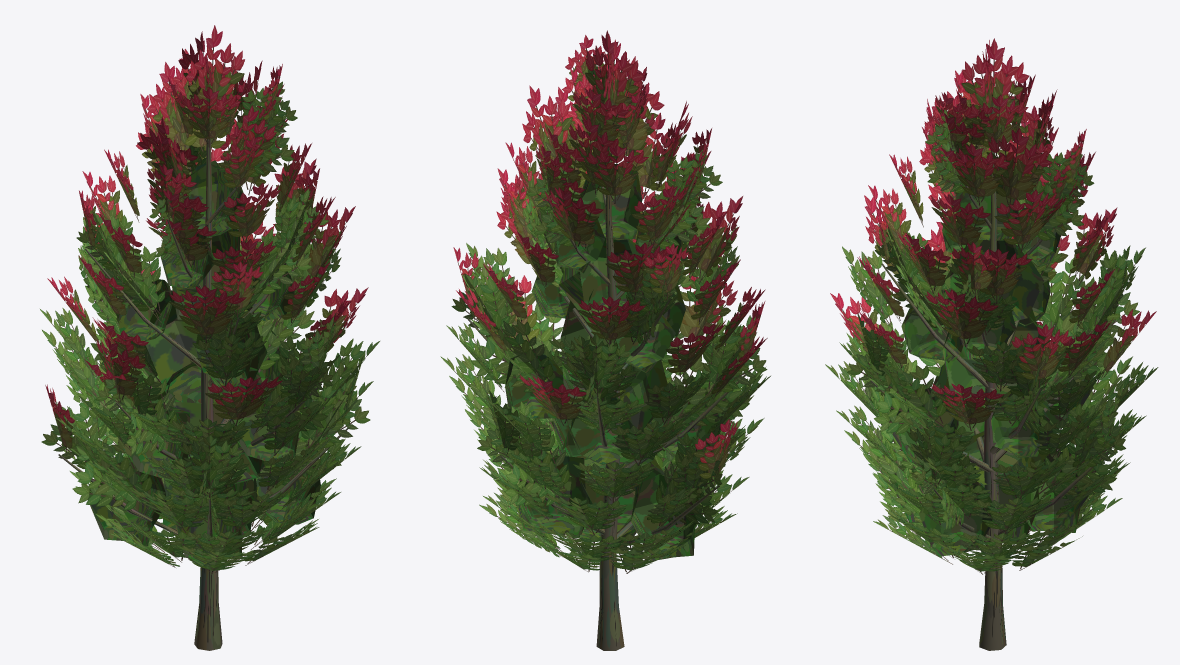
The model's file is pohon_mahoni_kecil.glb.
3 renders of one model, left to right at view 1: azimuth 30°, elevation 25°; view 2: azimuth 150°, elevation 25°; view 3: azimuth 270°, elevation 25°, orthographic.
Parts seen in each view (by area): view 1: Daun_Hijau_Bawah_Mahoni, Tunas_Pucuk_Merah_Atas, Inti_Tajuk_Hijau_Zaitun, Batang_Dan_Cabang_Mahoni; view 2: Daun_Hijau_Bawah_Mahoni, Tunas_Pucuk_Merah_Atas, Inti_Tajuk_Hijau_Zaitun, Batang_Dan_Cabang_Mahoni; view 3: Daun_Hijau_Bawah_Mahoni, Tunas_Pucuk_Merah_Atas, Inti_Tajuk_Hijau_Zaitun, Batang_Dan_Cabang_Mahoni.
Boxes of the visible parts, x1,y1,x2,y2 form: Daun_Hijau_Bawah_Mahoni: (40, 81, 379, 573); Tunas_Pucuk_Merah_Atas: (45, 25, 368, 453); Inti_Tajuk_Hijau_Zaitun: (87, 160, 320, 566); Batang_Dan_Cabang_Mahoni: (58, 139, 348, 650); Daun_Hijau_Bawah_Mahoni: (440, 56, 770, 573); Tunas_Pucuk_Merah_Atas: (453, 30, 767, 485); Inti_Tajuk_Hijau_Zaitun: (505, 164, 720, 560); Batang_Dan_Cabang_Mahoni: (467, 141, 751, 650); Daun_Hijau_Bawah_Mahoni: (825, 104, 1158, 574); Tunas_Pucuk_Merah_Atas: (830, 38, 1156, 430); Inti_Tajuk_Hijau_Zaitun: (888, 175, 1093, 556); Batang_Dan_Cabang_Mahoni: (870, 109, 1115, 650).
Size of the model in its own units: 1.33 by 2.47 by 1.25.
4 materials, 4 textured.
